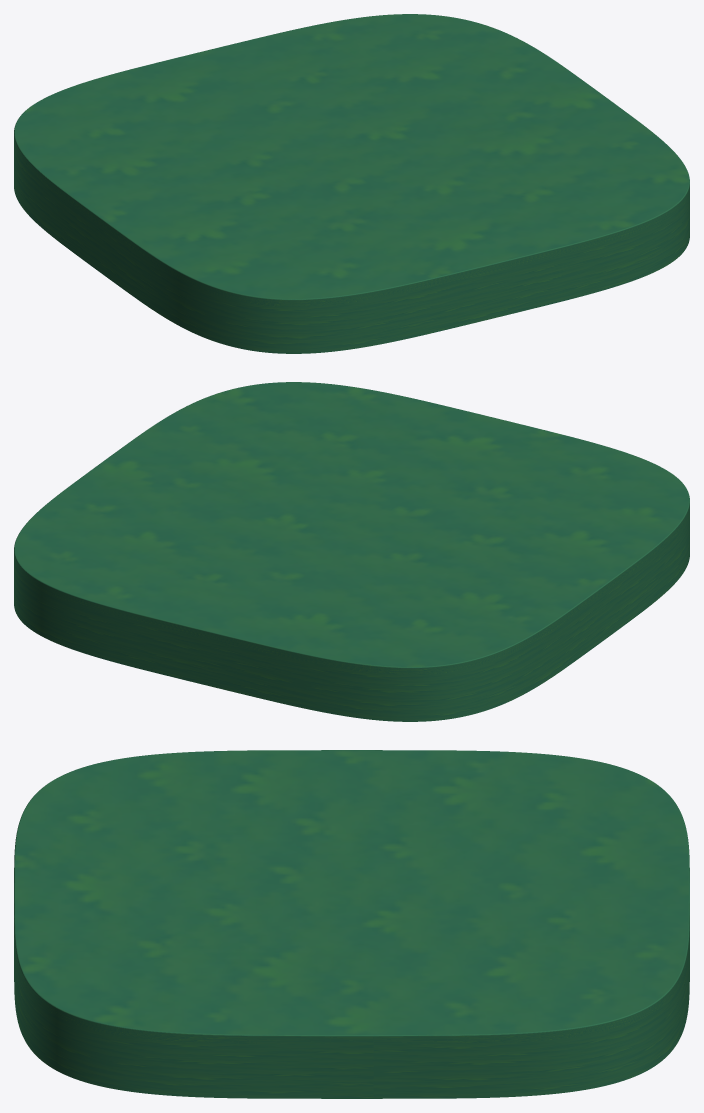
Rendered from starter-11.glb.
3 views of the same model, one above another, from view 1: azimuth 30°, elevation 25°; view 2: azimuth 150°, elevation 25°; view 3: azimuth 270°, elevation 25° (orthographic). The views are drawn at different scales.
Visible parts, largest first — view 1: geometry_0; view 2: geometry_0; view 3: geometry_0.
Boxes of the visible parts, x1,y1,x2,y2 form: geometry_0: (14,14,689,353); geometry_0: (14,382,689,721); geometry_0: (14,750,689,1098).
Size of the model in its own units: 57.98 by 6 by 57.98.
Materials: 1 (1 with a texture image).
